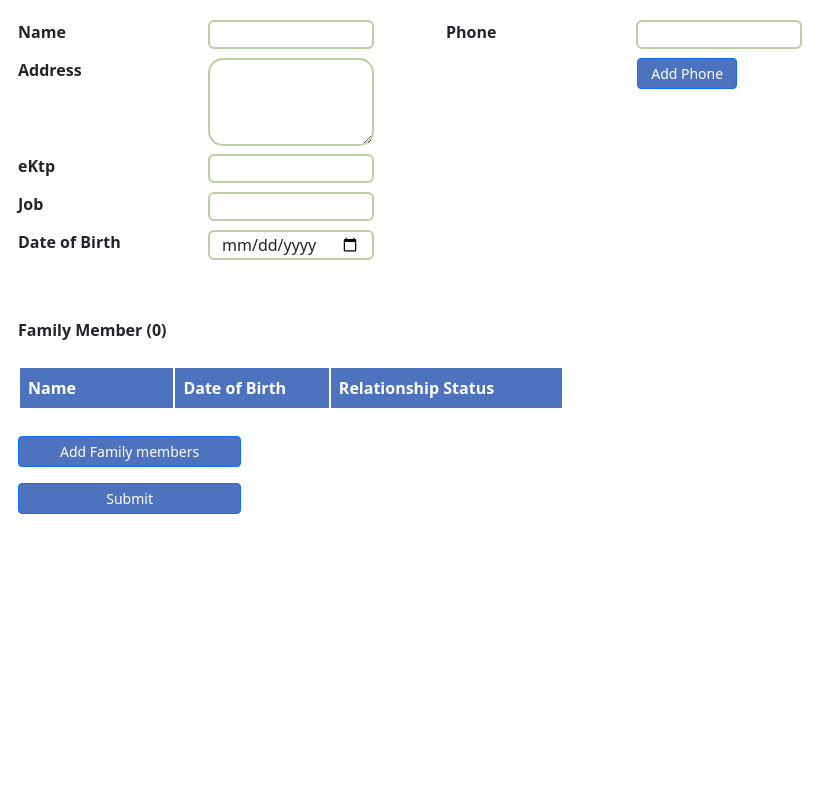
Unit testing for Form › Should display error when all is not values
Click the button with test id "submit-button" at (130, 498), box [18,483,241,514]
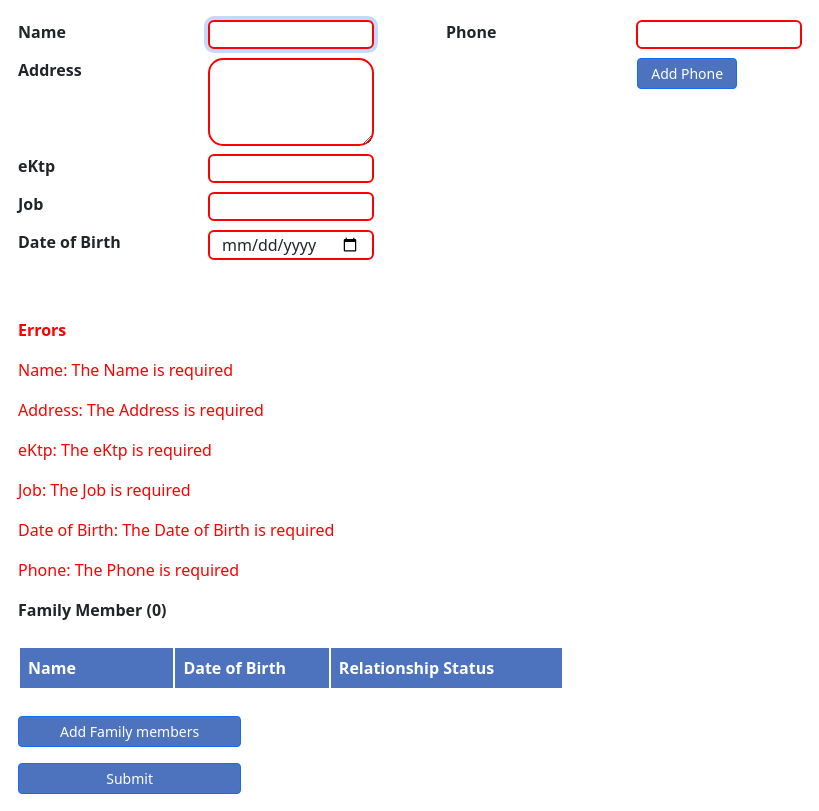
Expected: the text "Errors" is shown, [18,319,66,341]
Expected: the text "Name: The Name is required" is shown, [18,359,233,381]
Expected: the text "Address: The Address is required" is shown, [18,399,264,421]
